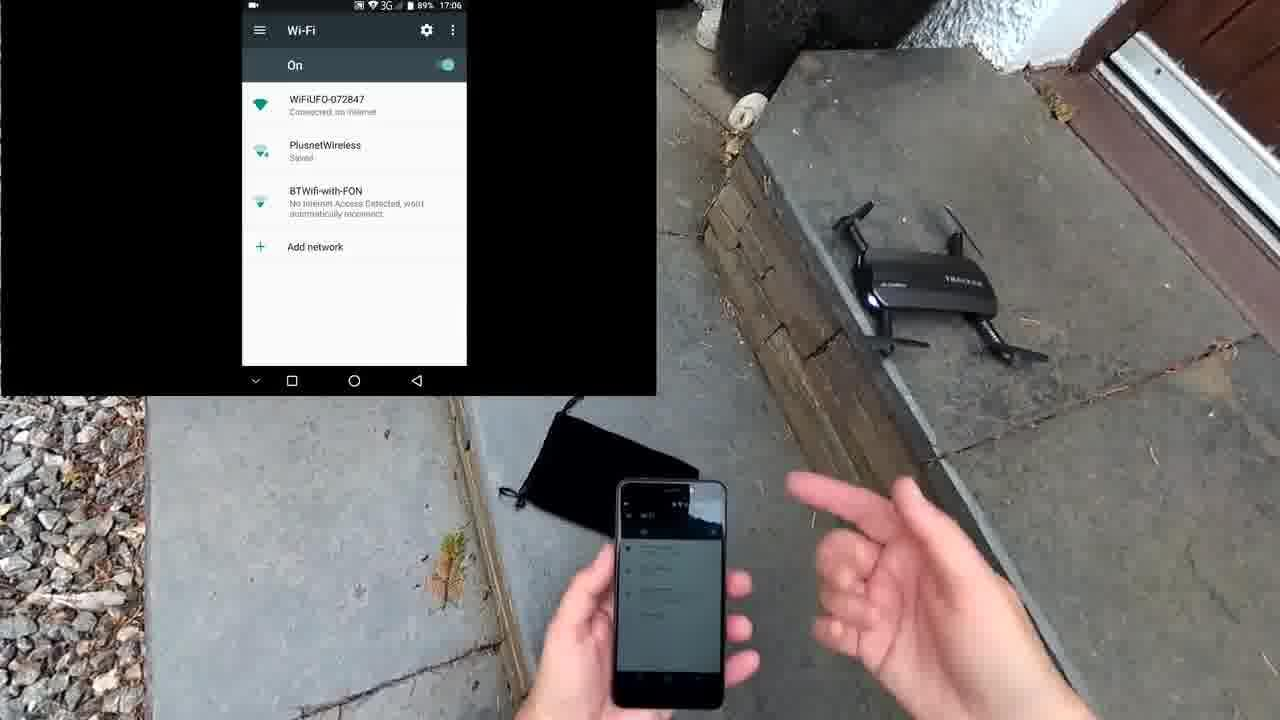drone: (815, 210, 1050, 365)
